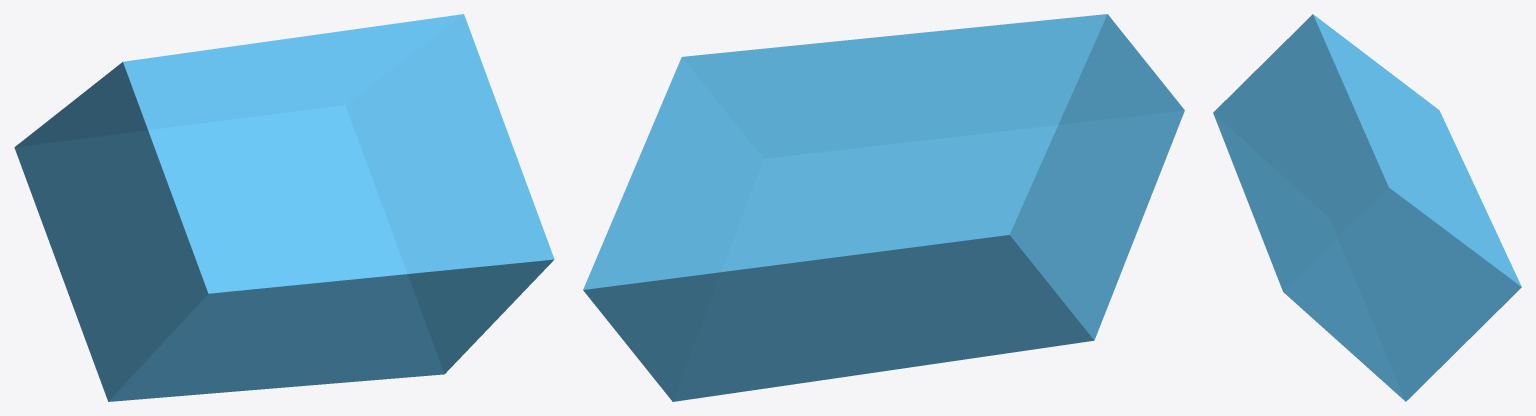
File: Event_420604493_HErechit_42.fbx
The picture shows the model from 3 angles, left to right: view 1: azimuth 30°, elevation 25°; view 2: azimuth 150°, elevation 25°; view 3: azimuth 270°, elevation 25°; orthographic projection. The views are drawn at different scales.
Visible parts, largest first — view 1: Model; view 2: Model; view 3: Model.
Part boxes in pixels (x1,y1,x2,y2): Model: [14, 14, 554, 401]; Model: [583, 14, 1184, 401]; Model: [1213, 14, 1521, 401].
Bounding box in the file's own units: 0.648 × 0.7148 × 0.7313.
